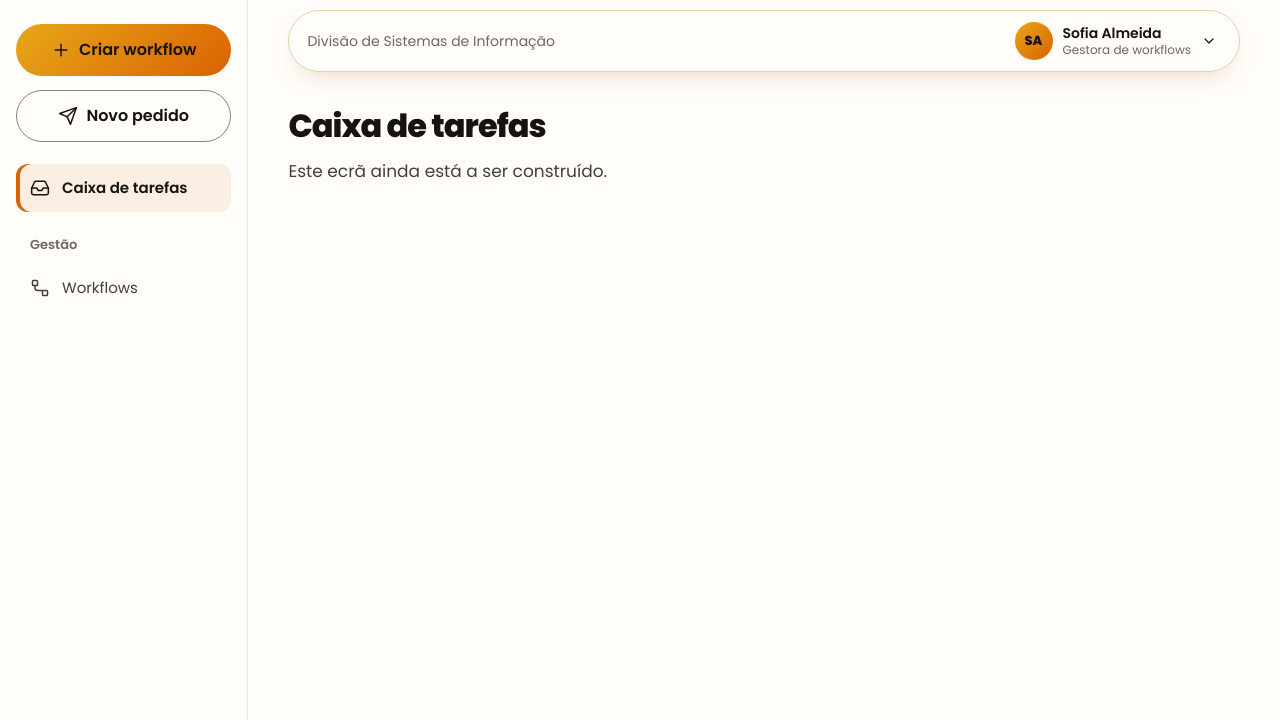
Test: App › opens each screen of the menu, marked as the current page
Expected: the navigation bar named "Menu principal" is shown, [0,0,248,719]
Click the link "Novo pedido": coordinates (124, 116) [16,90,232,142]
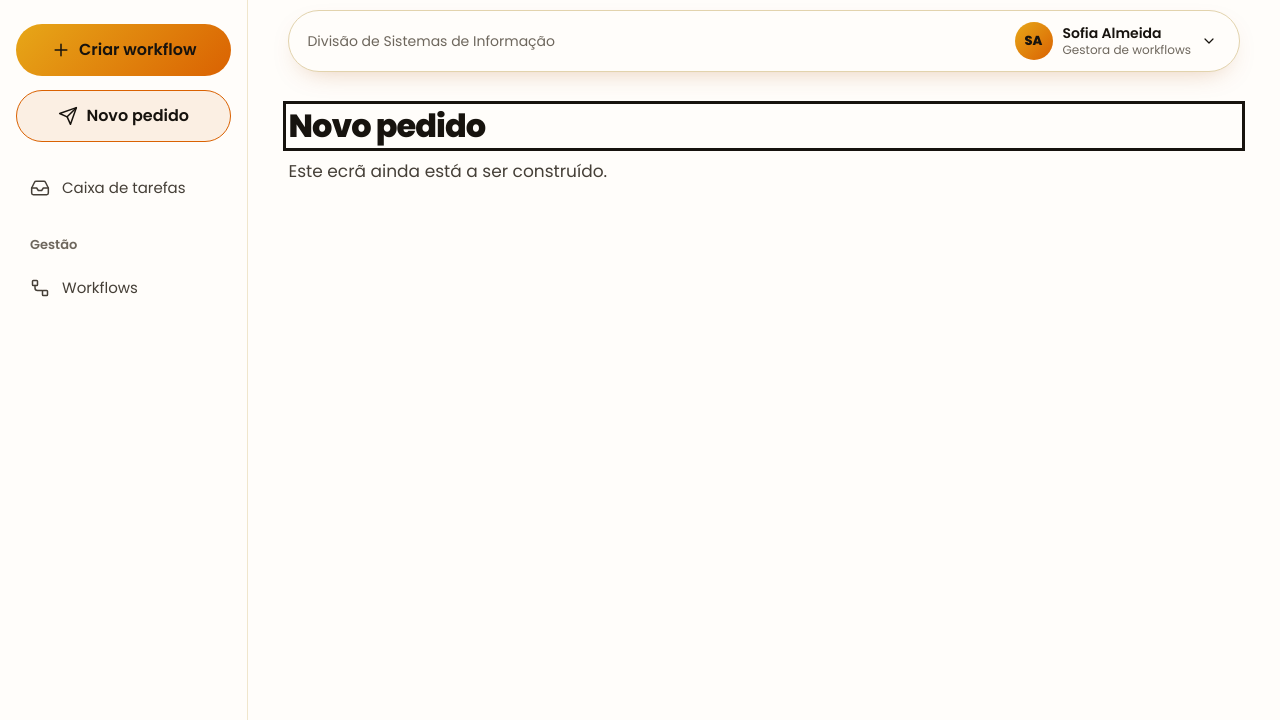
Result: the heading "Novo pedido" is shown at [288,106,1240,146]
Click the link "Workflows": coordinates (84, 288) [30,277,138,298]
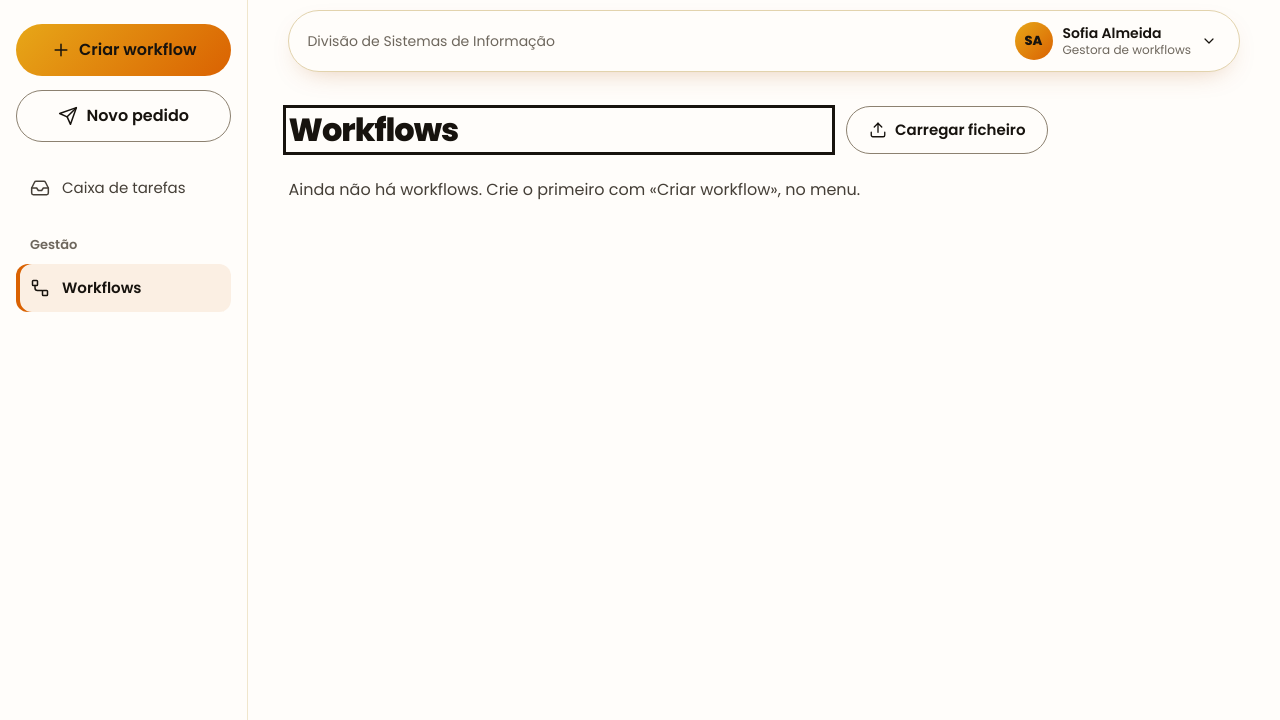
Result: the heading "Workflows" is shown at [288,110,830,150]
